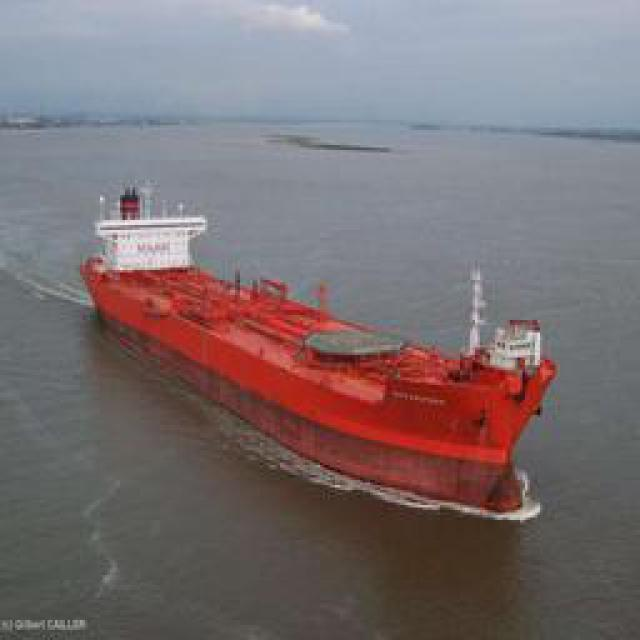Ship: (85, 197, 555, 520)
